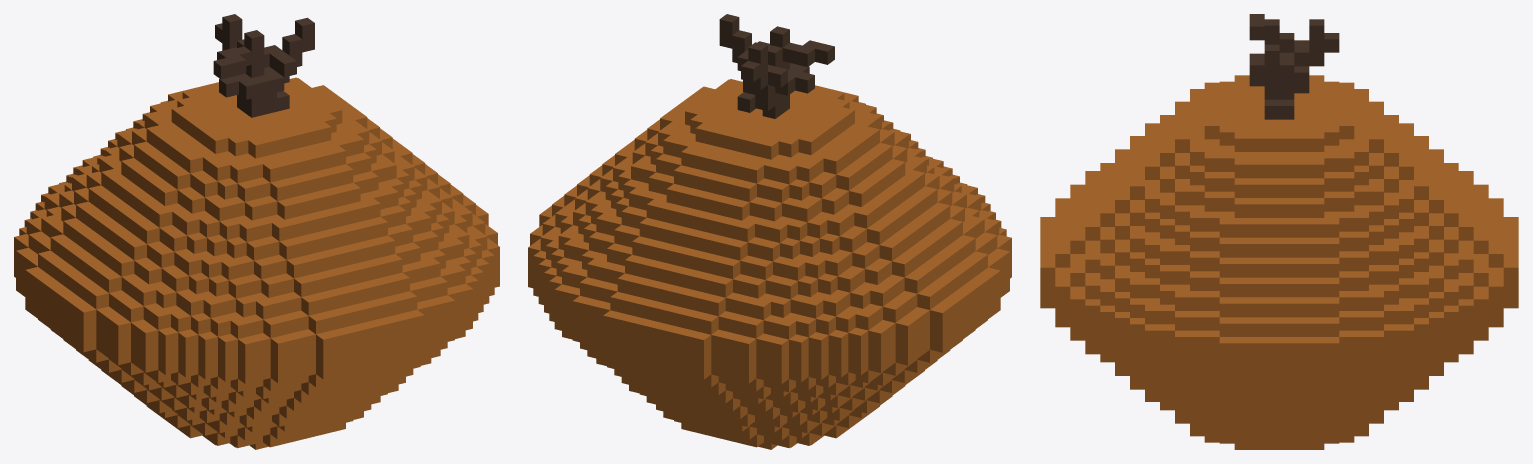
File: NewOnion.obj
3 renders of one model, left to right at view 1: azimuth 30°, elevation 25°; view 2: azimuth 150°, elevation 25°; view 3: azimuth 270°, elevation 25°, orthographic. The views are drawn at different scales.
Size of the model in its own units: 3.2 by 2.9 by 3.2.
Materials: 1 (1 with a texture image).
